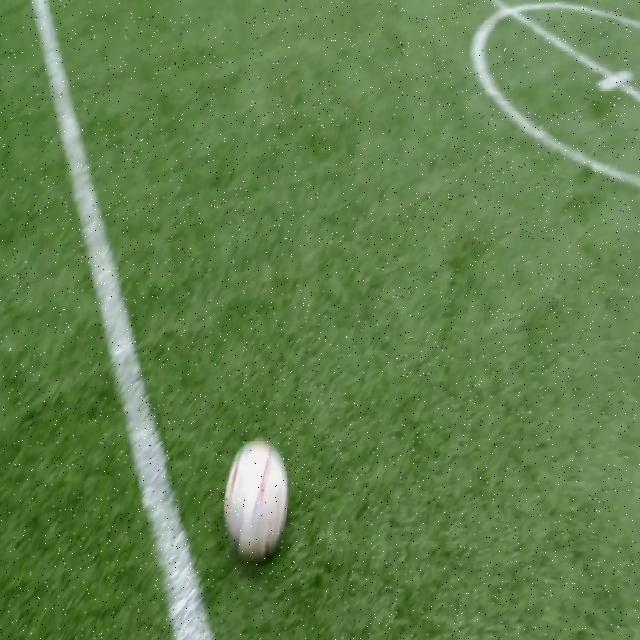ball: (224, 438, 288, 559)
